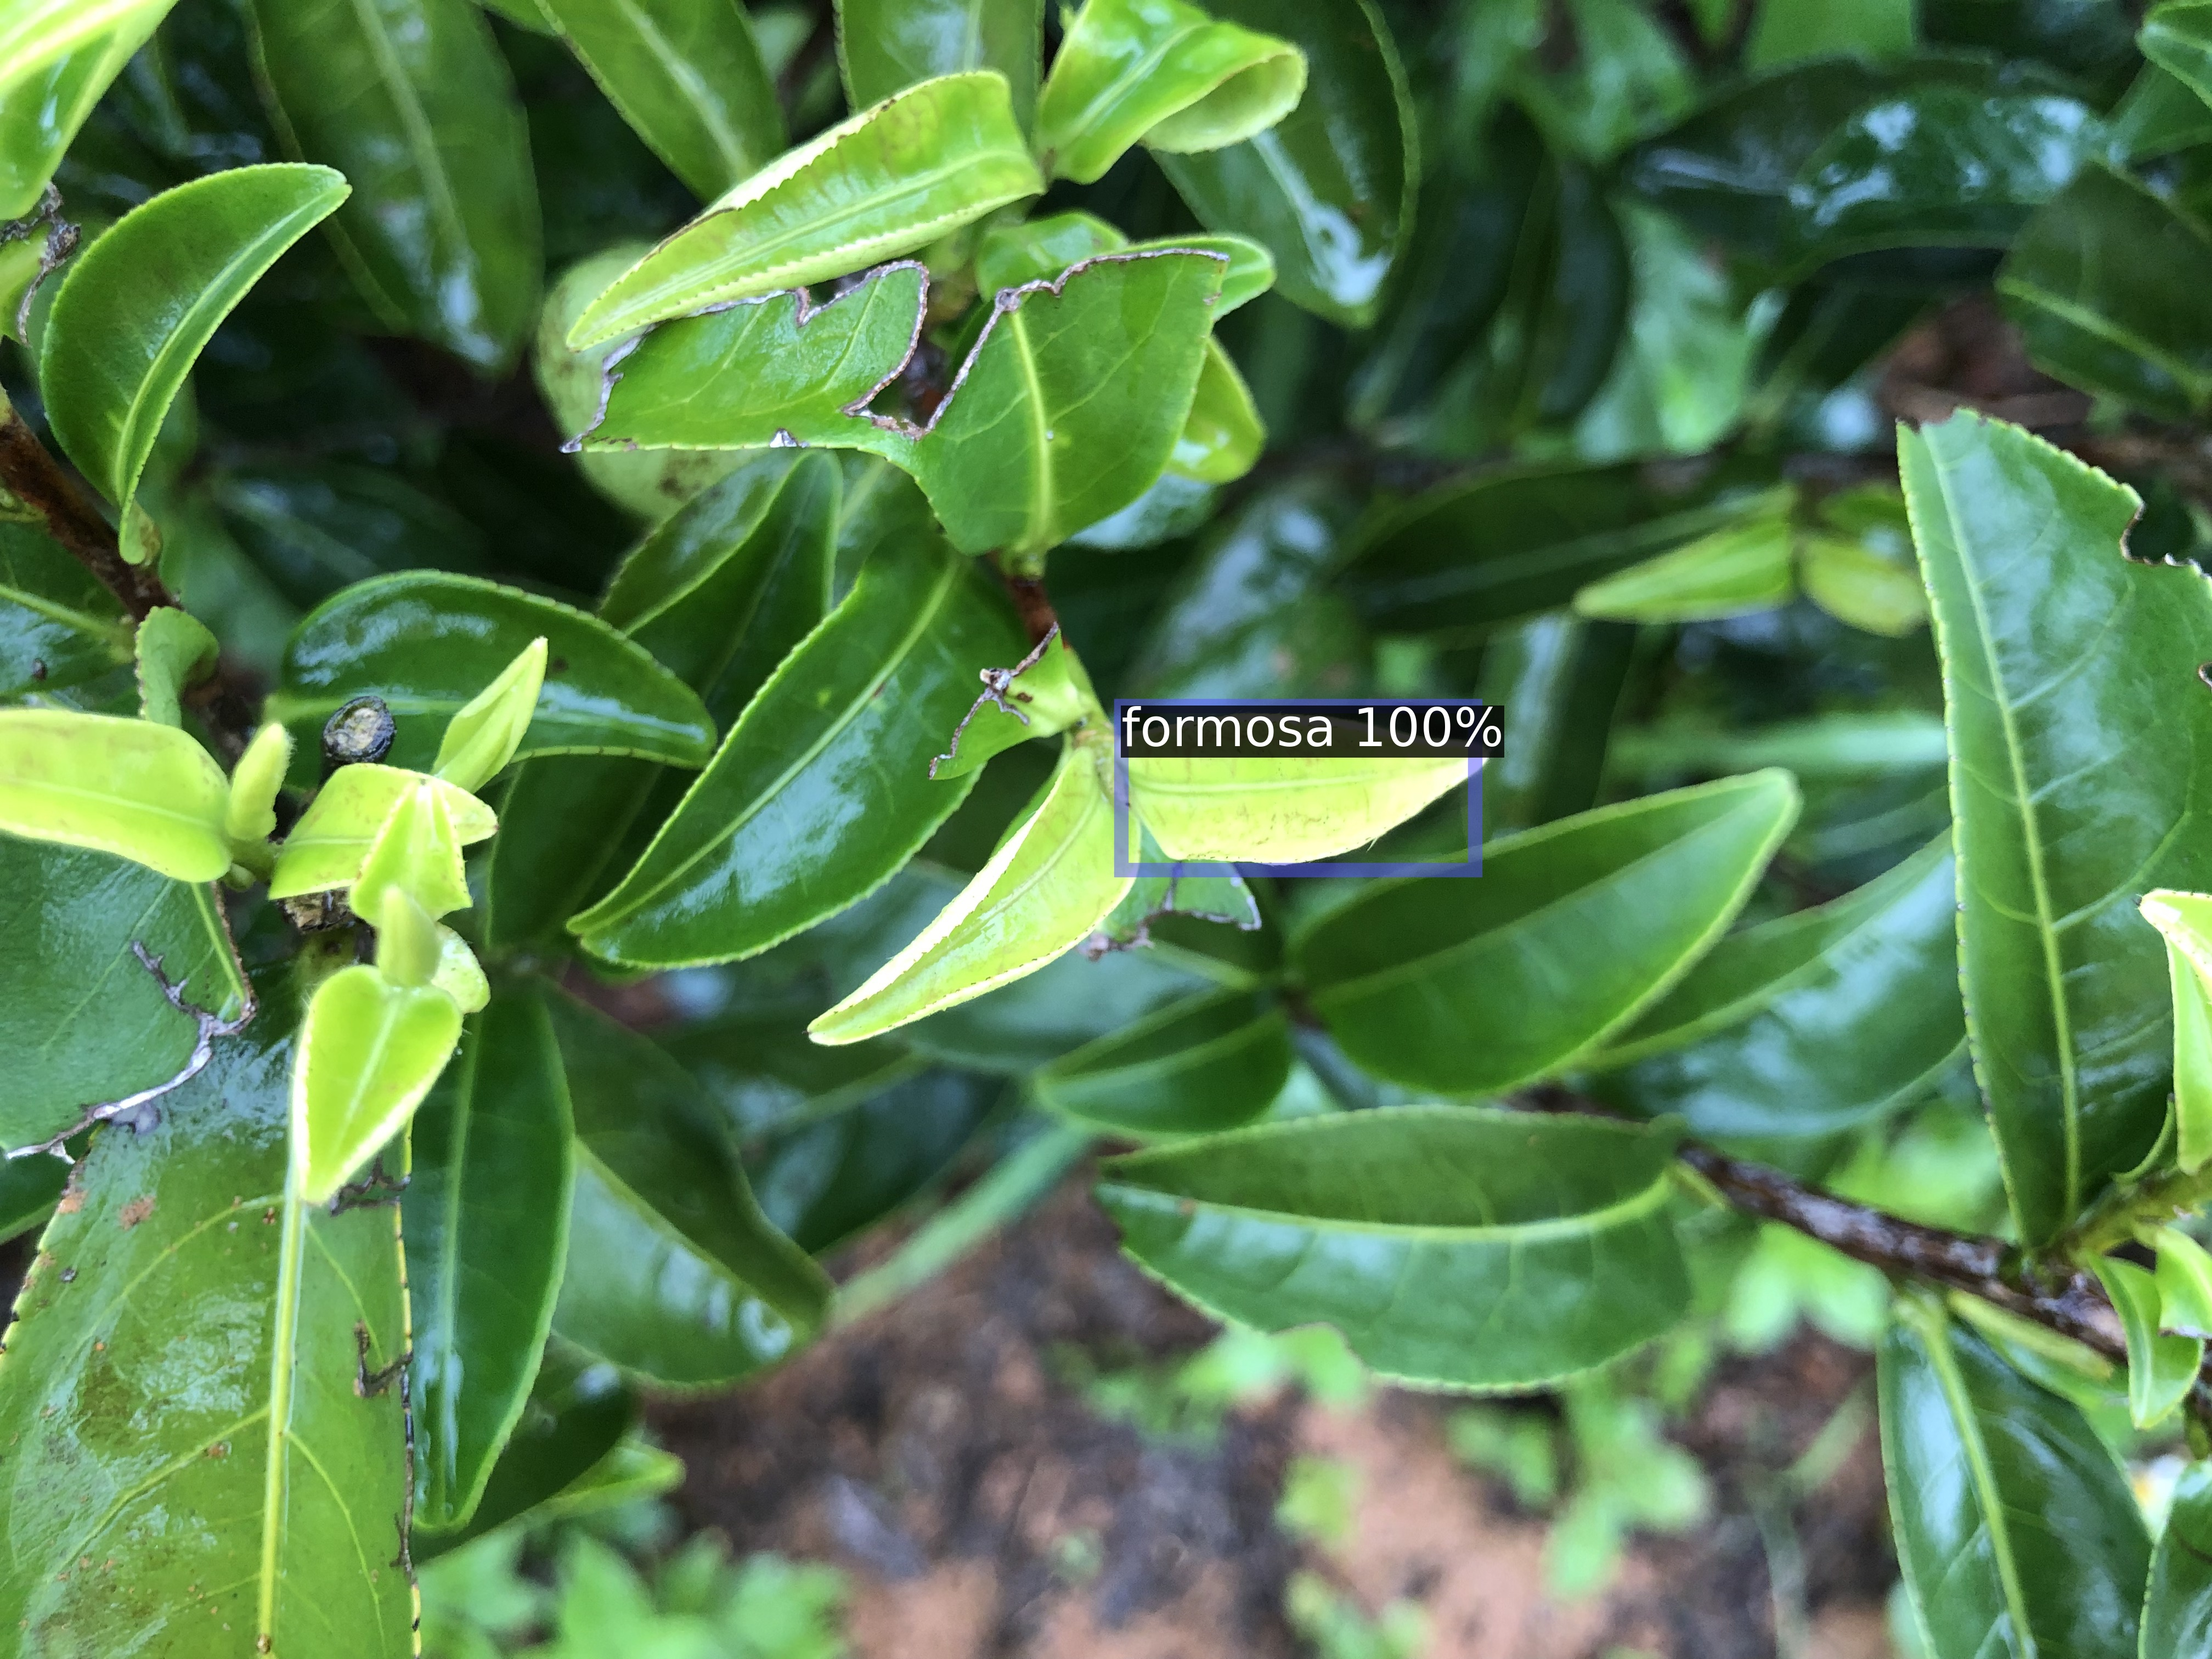formosa: (1122, 706, 1475, 870)
